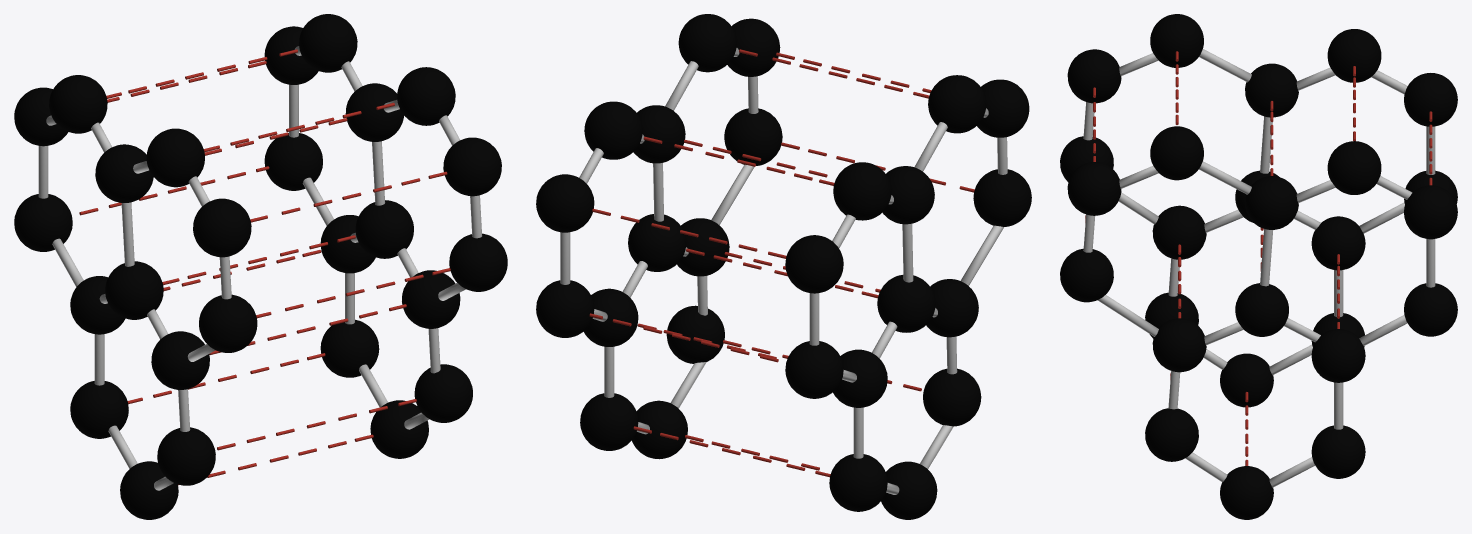
The model's file is graphite.fbx.
The picture shows the model from 3 angles, left to right: view 1: azimuth 30°, elevation 25°; view 2: azimuth 150°, elevation 25°; view 3: azimuth 270°, elevation 25°; orthographic projection. The views are drawn at different scales.
Parts seen in each view (by area): view 1: Graphite Molecule; view 2: Graphite Molecule; view 3: Graphite Molecule.
Part boxes in pixels (x1,y1,x2,y2): Graphite Molecule: (14, 14, 507, 519); Graphite Molecule: (536, 14, 1031, 519); Graphite Molecule: (1060, 14, 1457, 519).
Size of the model in its own units: 1103 by 1385 by 1302.
